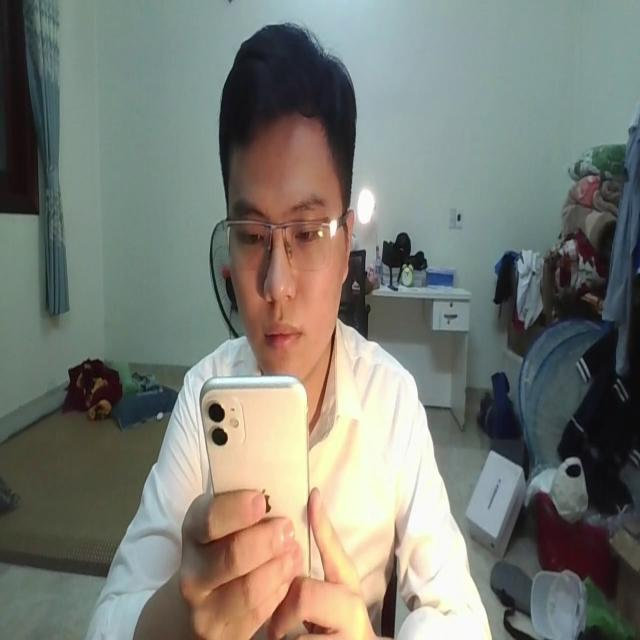phone: (197, 372, 311, 590)
student: (76, 30, 492, 640)
